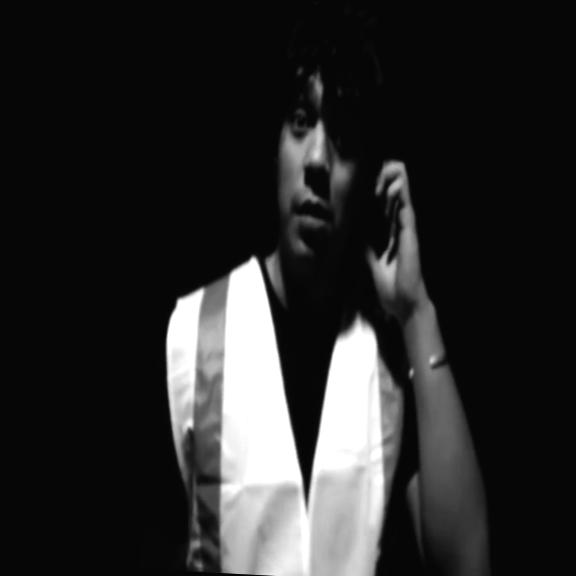safety_vest: (149, 239, 414, 576)
